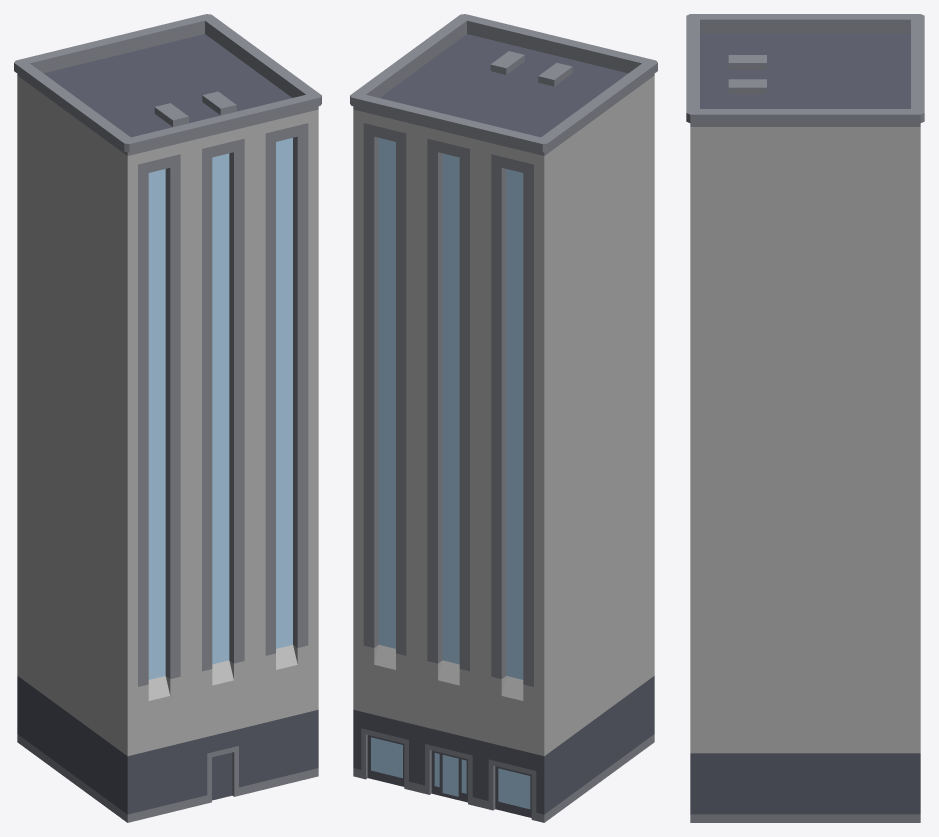
Rendered from skyscraperf_lev3.glb.
3 views of the same model, side by side, from view 1: azimuth 30°, elevation 25°; view 2: azimuth 150°, elevation 25°; view 3: azimuth 270°, elevation 25° (orthographic). The views are drawn at different scales.
Visible parts, largest first — view 1: skyscraperf_lev3; view 2: skyscraperf_lev3; view 3: skyscraperf_lev3.
Boxes of the visible parts, x1,y1,x2,y2 form: skyscraperf_lev3: [14, 14, 321, 822]; skyscraperf_lev3: [350, 14, 657, 822]; skyscraperf_lev3: [686, 14, 924, 822].
Bounding box in the file's own units: 4.68 × 15.39 × 4.68.
